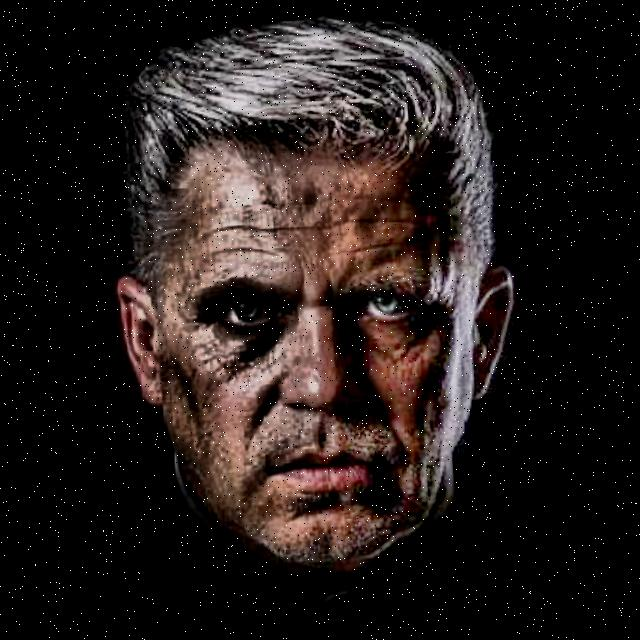neutral: (100, 4, 535, 594)
